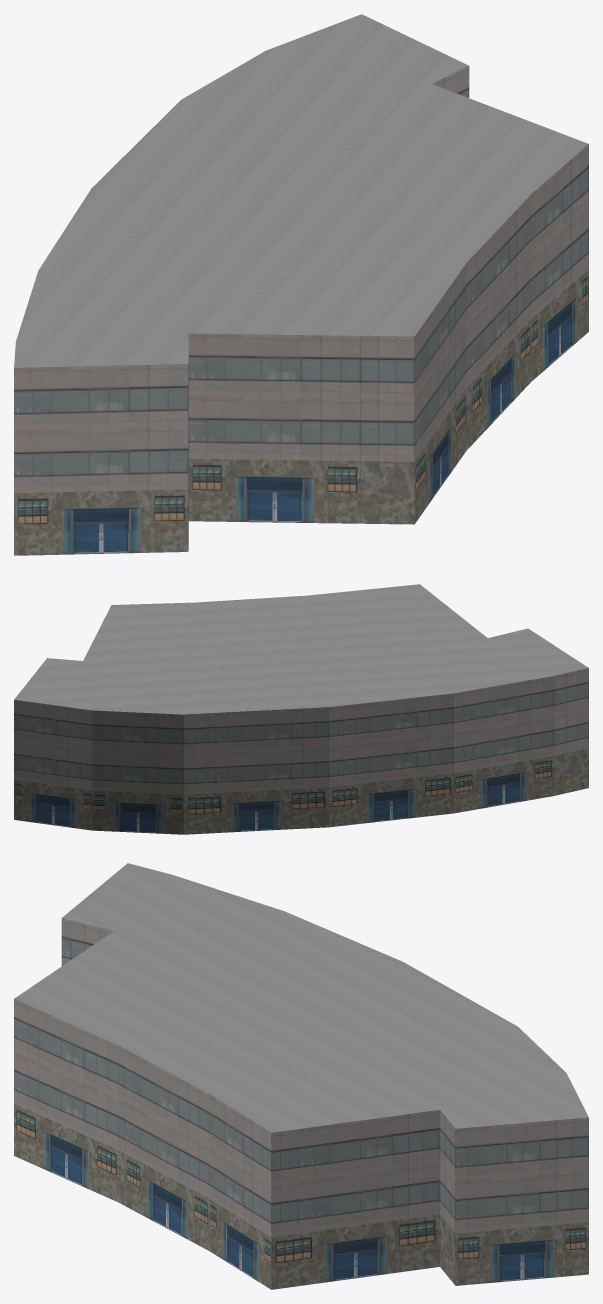
3 renders of one model, top to bottom at view 1: azimuth 30°, elevation 25°; view 2: azimuth 150°, elevation 25°; view 3: azimuth 270°, elevation 25°, orthographic. The views are drawn at different scales.
Parts seen in each view (by area): view 1: BuildingMaster_2003194597004462590500000000_1, BuildingMaster_2003194597004462590500000000_0; view 2: BuildingMaster_2003194597004462590500000000_0, BuildingMaster_2003194597004462590500000000_1; view 3: BuildingMaster_2003194597004462590500000000_0, BuildingMaster_2003194597004462590500000000_1.
Boxes of the visible parts, x1,y1,x2,y2 form: BuildingMaster_2003194597004462590500000000_1: (14,14,588,367); BuildingMaster_2003194597004462590500000000_0: (14,66,588,555); BuildingMaster_2003194597004462590500000000_0: (14,668,588,834); BuildingMaster_2003194597004462590500000000_1: (14,584,588,714); BuildingMaster_2003194597004462590500000000_0: (14,918,588,1289); BuildingMaster_2003194597004462590500000000_1: (14,863,588,1132).
Size of the model in its own units: 38.67 by 10.5 by 34.84.
2 materials, 2 textured.
